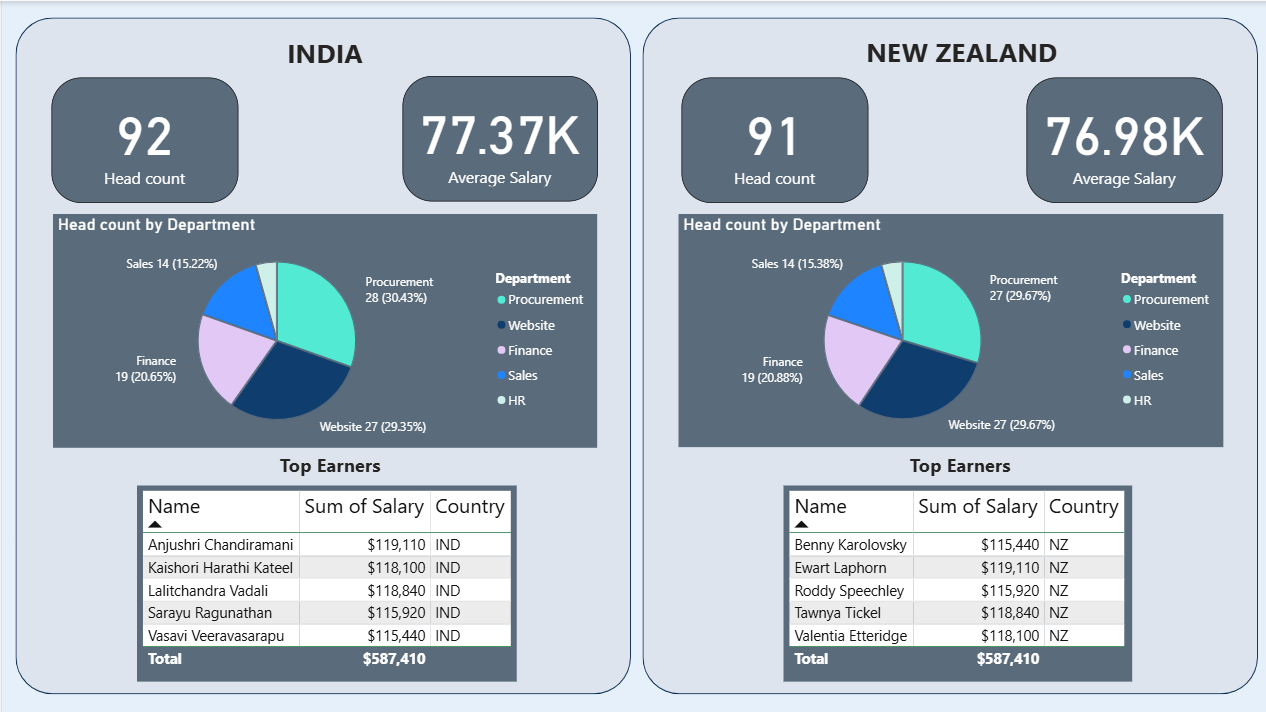

Layout of this report page (visuals, bound fields, positions):
{"tool":"powerbi","page":{"name":"Page 2","canvas":[1280,720],"ordinal":1},"visuals":[{"type":"shape","box":[14.4,17.3,621.3,683.1],"z":0},{"type":"pieChart","fields":{"Category":["Data.Department"],"Y":["Data.Head count"]},"box":[51.8,214.3,549.4,235.9],"z":1000},{"type":"card","fields":{"Values":["Data.Head count"]},"box":[50.3,77.7,188.4,126.6],"z":2000},{"type":"card","fields":{"Values":["Data.Average Salary"]},"box":[404.1,76.2,197,126.6],"z":3000},{"type":"tableEx","fields":{"Values":["Data.Name","Sum(Data.Salary)","Data.Country"]},"box":[136.3,488.5,383,198],"z":4000},{"type":"shape","box":[647.2,17.3,621.3,683.1],"z":5000},{"type":"textbox","box":[276.1,28.8,100.7,47.5],"z":6000},{"type":"textbox","box":[264.6,450.1,128,38.8],"z":7000},{"type":"textbox","box":[860,27.3,214.3,47.5],"z":8000},{"type":"card","fields":{"Values":["Data.Head count"]},"box":[686,77.7,188.4,126.6],"z":9000},{"type":"card","fields":{"Values":["Data.Average Salary"]},"box":[1033.9,77.9,198,126.6],"z":10000},{"type":"pieChart","fields":{"Category":["Data.Department"],"Y":["Data.Head count"]},"box":[683.2,215.1,549.7,235],"z":11000},{"type":"tableEx","fields":{"Values":["Data.Name","Sum(Data.Salary)","Data.Country"]},"box":[788.8,488.5,352.2,198],"z":12000},{"type":"textbox","box":[900.8,449.6,128.2,37.3],"z":13000}]}

Visuals, with their boxes in screenshot pixels (x1, y1, x2, y2), scaled from the page's 1280x720 canvas onto the 1266x712 screenshot:
shape: [left=14, top=17, right=629, bottom=693]
pieChart - Data.Department x Data.Head count: [left=51, top=212, right=595, bottom=445]
card - Data.Head count: [left=50, top=77, right=236, bottom=202]
card - Data.Average Salary: [left=400, top=75, right=595, bottom=201]
tableEx - Data.Name x Sum(Data.Salary): [left=135, top=483, right=514, bottom=679]
shape: [left=640, top=17, right=1255, bottom=693]
textbox: [left=273, top=28, right=373, bottom=75]
textbox: [left=262, top=445, right=388, bottom=483]
textbox: [left=851, top=27, right=1063, bottom=74]
card - Data.Head count: [left=678, top=77, right=865, bottom=202]
card - Data.Average Salary: [left=1023, top=77, right=1218, bottom=202]
pieChart - Data.Department x Data.Head count: [left=676, top=213, right=1219, bottom=445]
tableEx - Data.Name x Sum(Data.Salary): [left=780, top=483, right=1129, bottom=679]
textbox: [left=891, top=445, right=1018, bottom=481]
